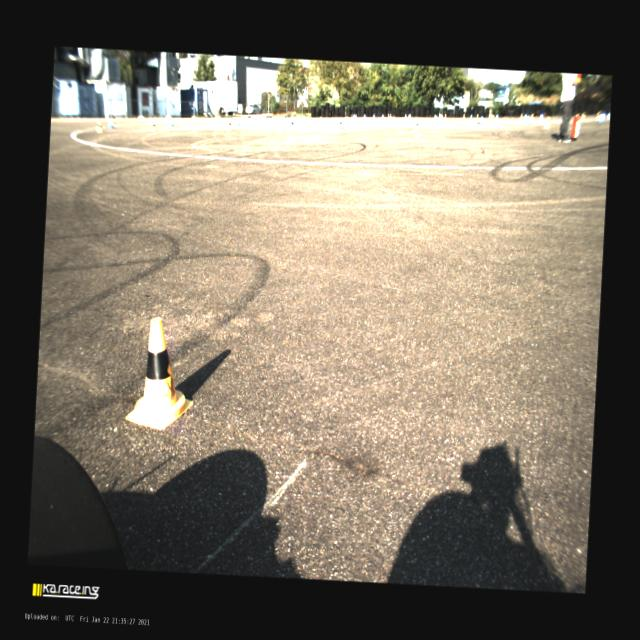yellow_cone: (125, 316, 198, 432)
